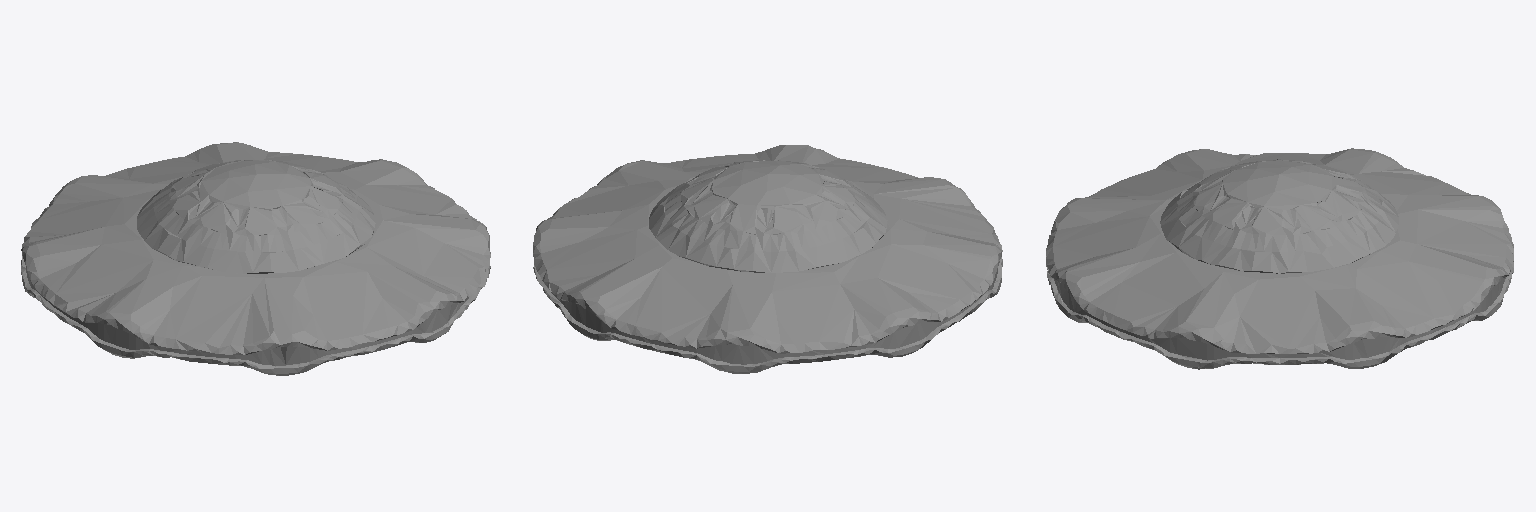
File: frame_073.obj
3 renders of one model, left to right at view 1: azimuth 30°, elevation 25°; view 2: azimuth 150°, elevation 25°; view 3: azimuth 270°, elevation 25°, orthographic.
Parts seen in each view (by area): view 1: 13884_UFO_Saucer_v1_l2; view 2: 13884_UFO_Saucer_v1_l2; view 3: 13884_UFO_Saucer_v1_l2.
Part boxes in pixels (bbox=[...]): 13884_UFO_Saucer_v1_l2: bbox=[21, 142, 490, 375]; 13884_UFO_Saucer_v1_l2: bbox=[533, 145, 1002, 373]; 13884_UFO_Saucer_v1_l2: bbox=[1046, 148, 1513, 369].
Size of the model in its own units: 12.69 by 4.88 by 12.7.